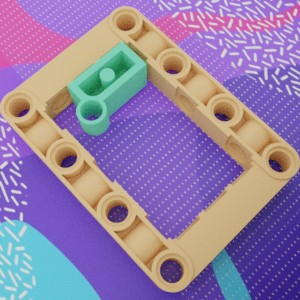lego: (0, 6, 300, 292), (66, 41, 146, 135)
